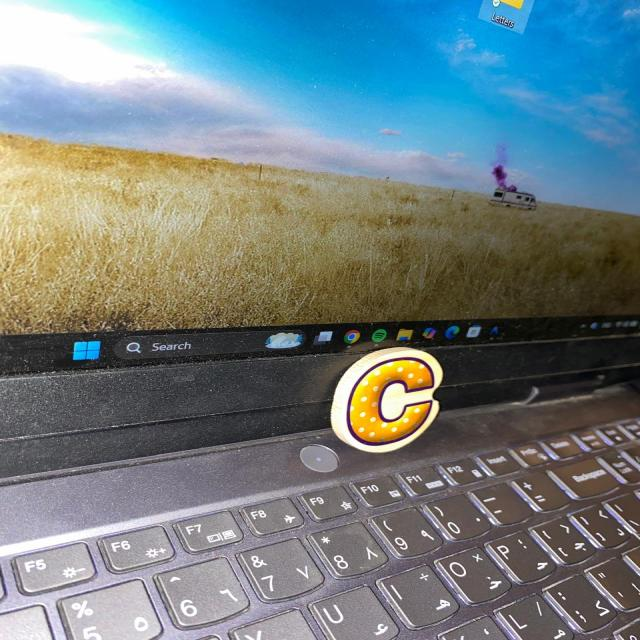C: (331, 347, 443, 452)
